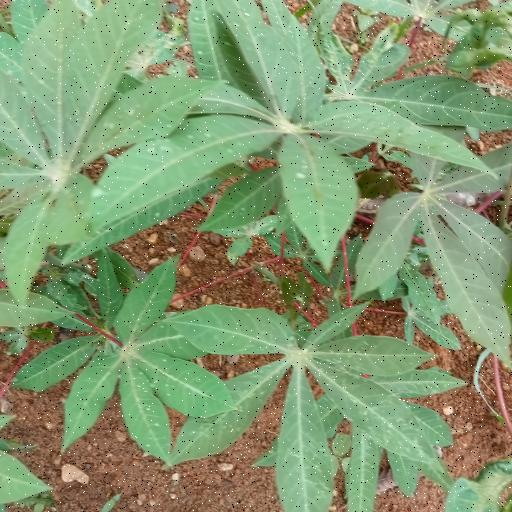Cassava_Mosaic: (0, 0, 212, 284), (170, 303, 440, 506), (366, 146, 512, 349)
